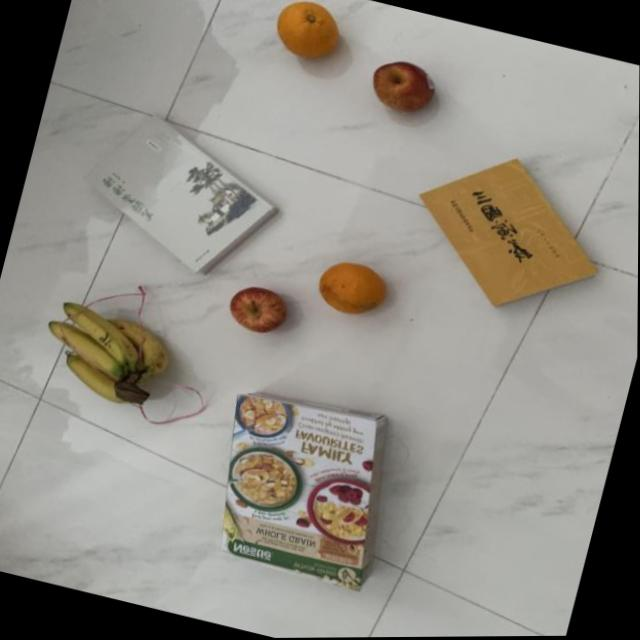Apple: (357, 43, 456, 131), (216, 274, 301, 349)
Banana: (23, 286, 186, 420)
Book: (383, 128, 625, 336), (63, 95, 294, 293)
Cerealbox: (180, 371, 430, 608)
Orange: (306, 249, 398, 330), (262, 0, 354, 73)
